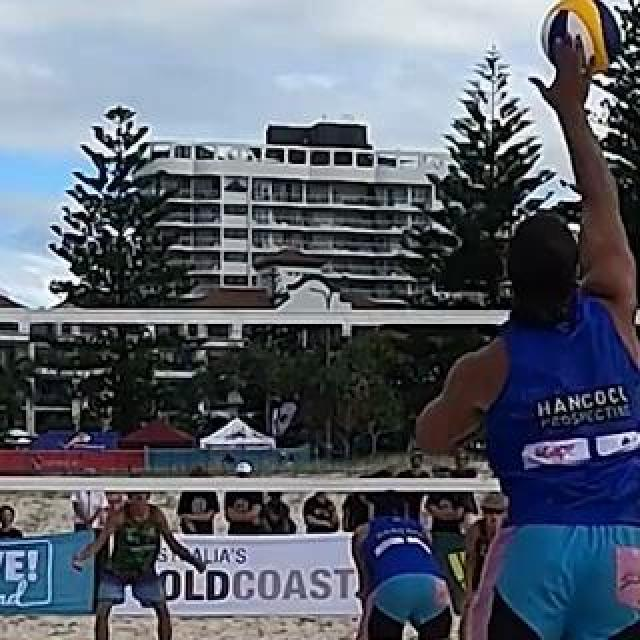volleyball: (540, 0, 624, 74)
